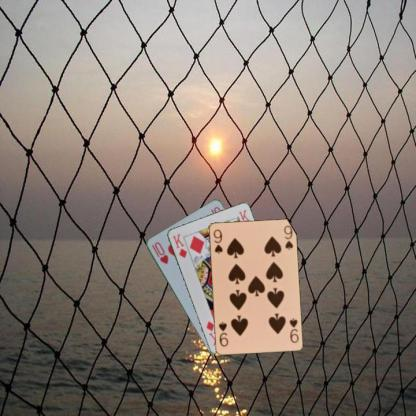10h: (149, 239, 169, 265)
9s: (286, 315, 300, 344), (211, 226, 223, 255)
Kd: (170, 231, 188, 260)
